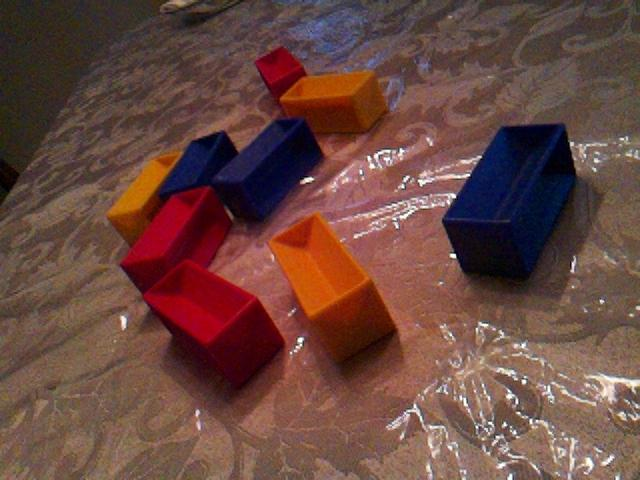blue: (440, 120, 579, 282), (210, 115, 325, 223), (157, 128, 238, 201)
red: (141, 258, 286, 389), (119, 185, 234, 295), (253, 44, 307, 102)
yellow: (266, 210, 398, 364), (106, 150, 184, 247), (279, 69, 390, 135)
